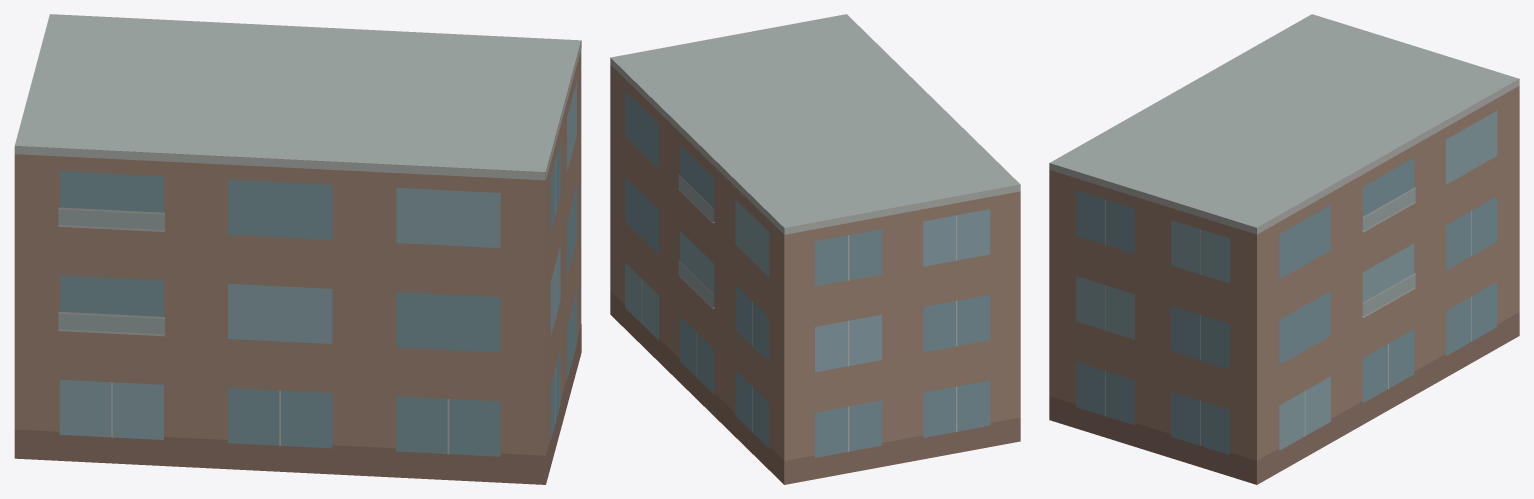
The model's file is survey-upis-32809051.glb.
3 renders of one model, left to right at view 1: azimuth 30°, elevation 25°; view 2: azimuth 150°, elevation 25°; view 3: azimuth 270°, elevation 25°, orthographic. The views are drawn at different scales.
Visible parts, largest first — view 1: survey-upis-32809051.tmp; view 2: survey-upis-32809051.tmp; view 3: survey-upis-32809051.tmp.
Part boxes in pixels (left/top/right/bottom): survey-upis-32809051.tmp: left=14, top=14, right=581, bottom=484; survey-upis-32809051.tmp: left=610, top=14, right=1020, bottom=484; survey-upis-32809051.tmp: left=1049, top=14, right=1519, bottom=484.
Size of the model in its own units: 16.33 by 9.15 by 15.17.
